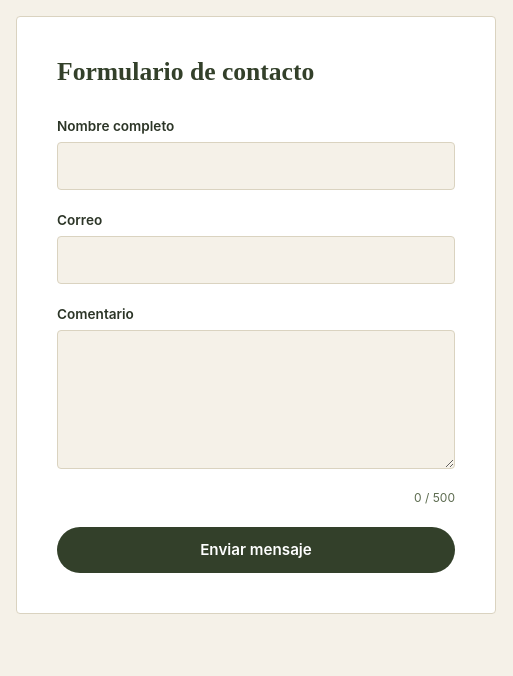
Test: Contacto › rechaza un correo con dominio no permitido
Type "Ana" into the field labelled "Nombre completo" at (256,166), box [57, 142, 455, 190]
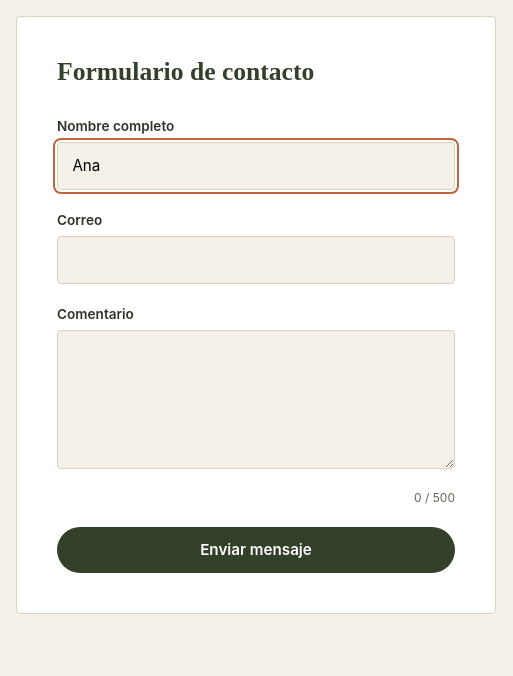
Type "ana@hotmail.com" into the field labelled "Correo" at (256,260), box [57, 236, 455, 284]
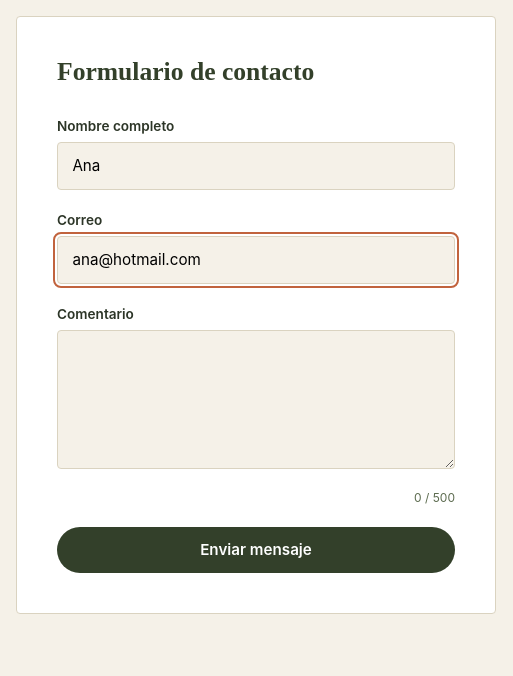
Type "Consulta" into the text box labelled "Comentario" at (256,400), box [57, 330, 455, 469]
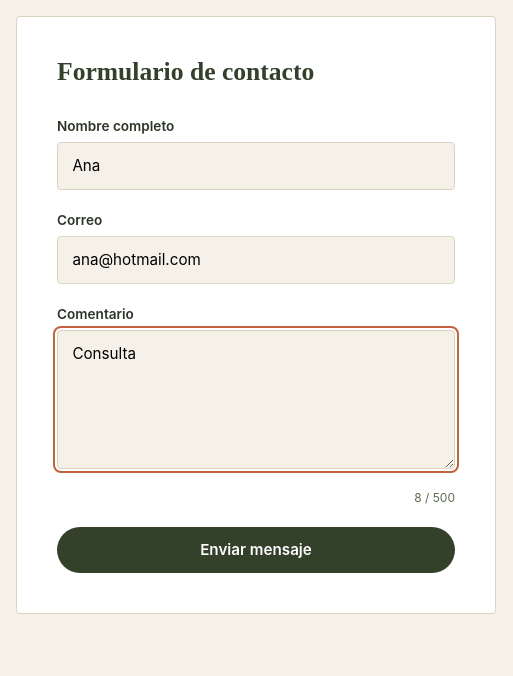
Click the button "Enviar mensaje" at (256,550), box [57, 527, 455, 573]
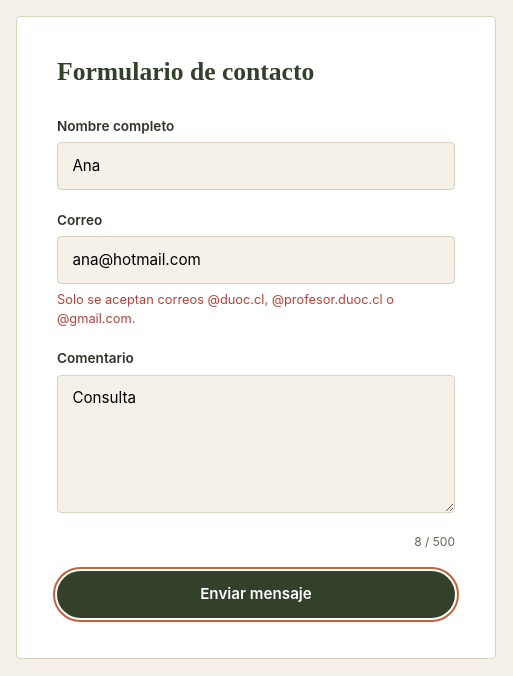
Now the text "Solo se aceptan correos @duoc.cl, @profesor.duoc.cl o @gmail.com." is shown, box [57, 292, 394, 326]
